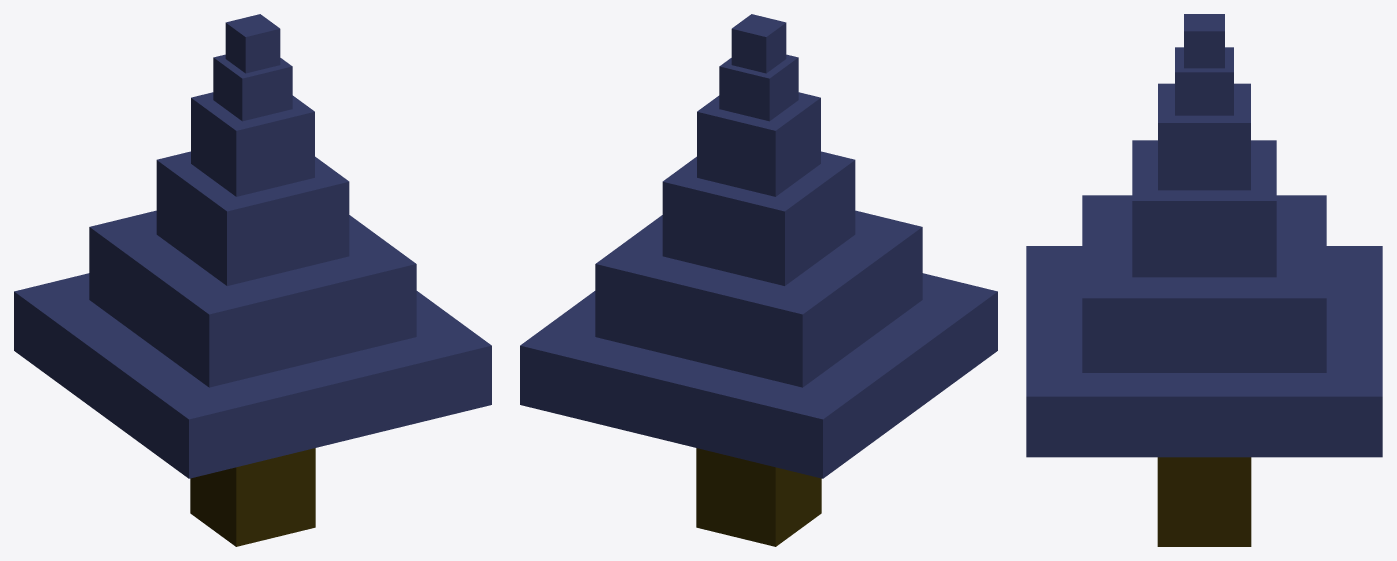
Rendered from bluecubictree.fbx.
3 renders of one model, left to right at view 1: azimuth 30°, elevation 25°; view 2: azimuth 150°, elevation 25°; view 3: azimuth 270°, elevation 25°, orthographic.
Parts seen in each view (by area): view 1: polySurface2; view 2: polySurface2; view 3: polySurface2.
Part boxes in pixels (left/top/right/bottom): polySurface2: left=14, top=14, right=491, bottom=546; polySurface2: left=520, top=14, right=997, bottom=546; polySurface2: left=1026, top=14, right=1382, bottom=546.
Bounding box in the file's own units: 3.8 × 5.94 × 3.8.
Materials: 1 (1 with a texture image).
